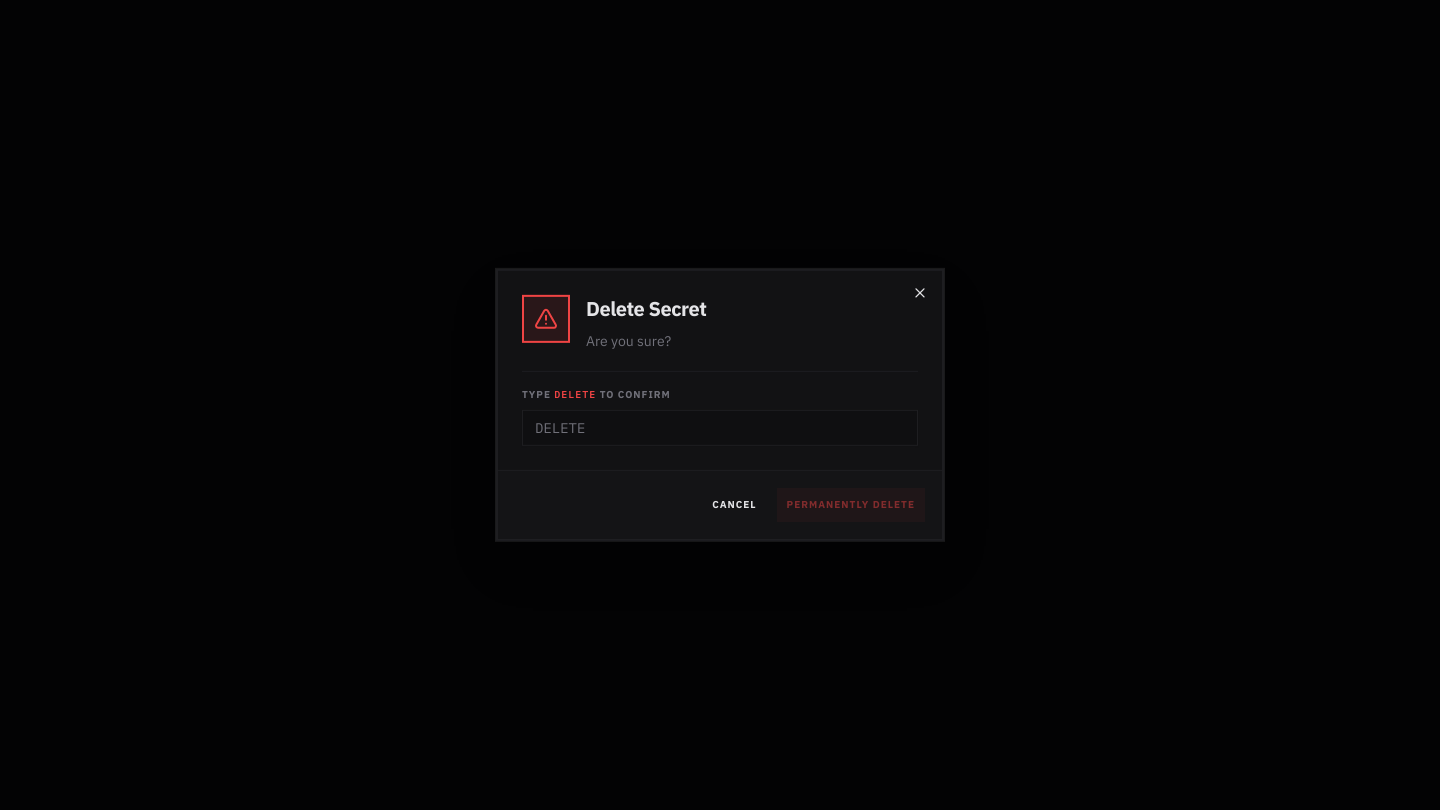
it: ConfirmationModal › requires typing uppercase DELETE for destructive modals
Later steps or results of the test are not shown.
Expected: the button "Permanently Delete" is disabled, [776,487,926,523]
Note: Lowercase should not enable deletion
In the field with placeholder "DELETE": [720, 428] box [522,410,918,446], type "delete"
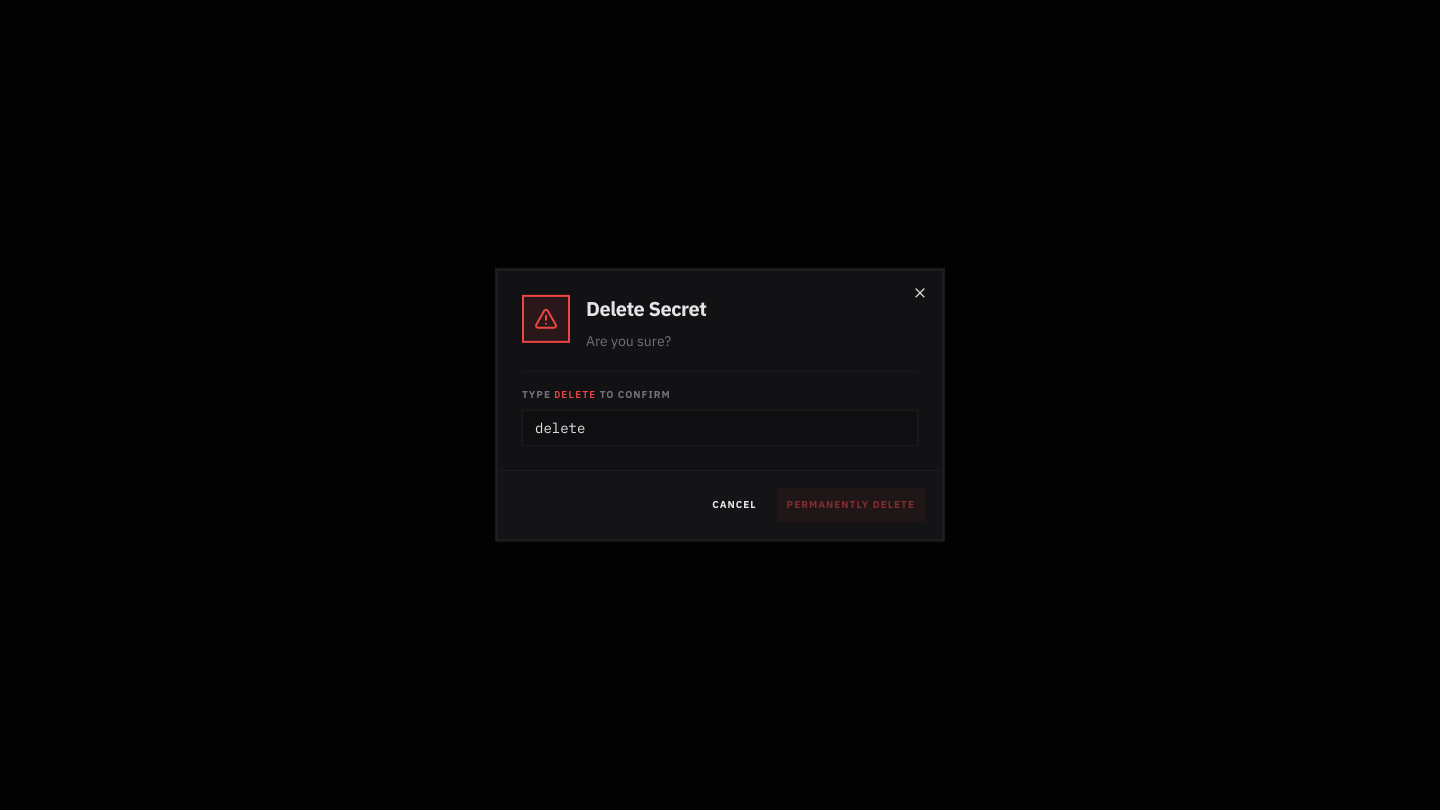
Expected: the button "Permanently Delete" is disabled, [776,487,926,523]
Note: Exact uppercase DELETE enables deletion
Replace the text in the field with placeholder "DELETE" with "DELETE": [720, 428] box [522,410,918,446]
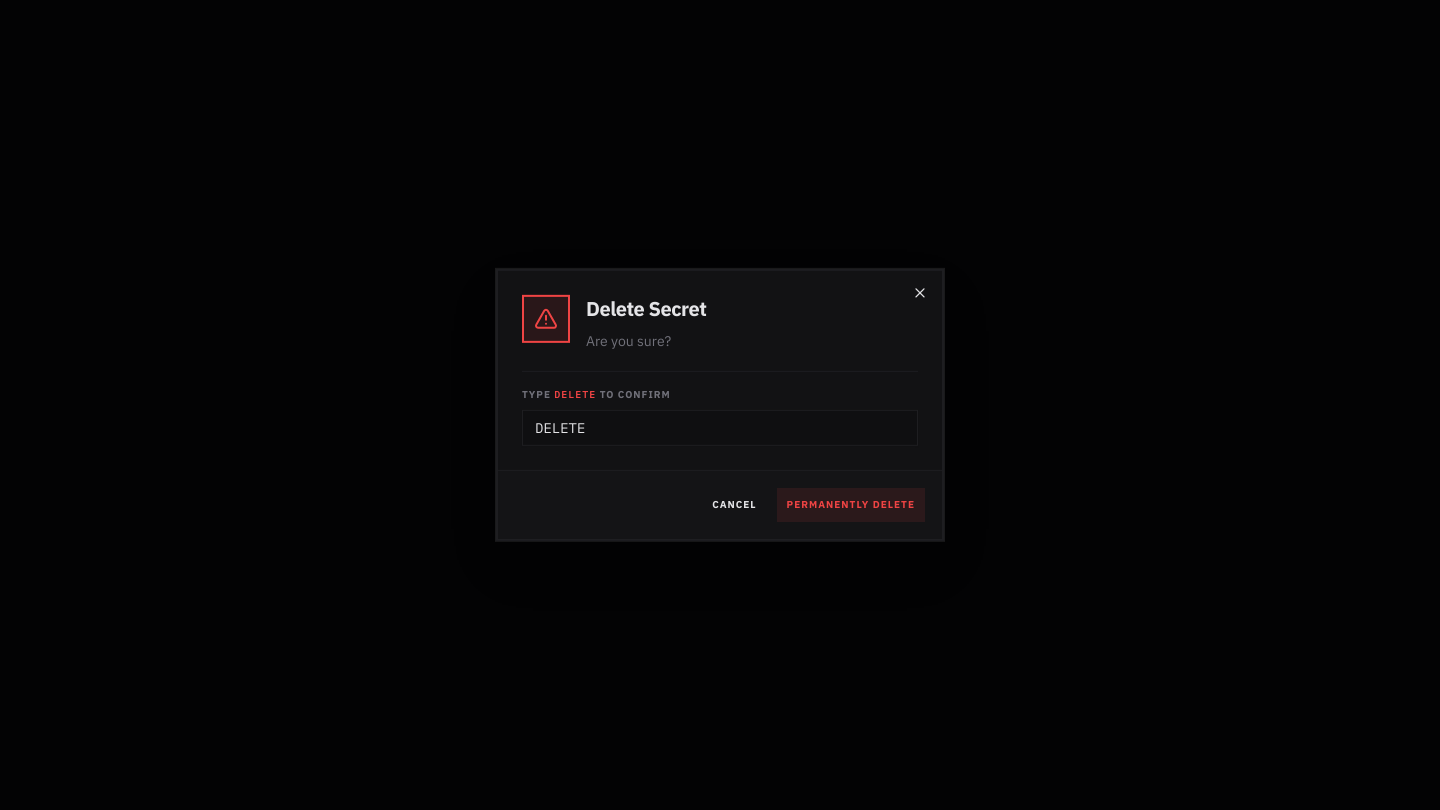
Result: the button "Permanently Delete" is enabled at [776,487,926,523]
